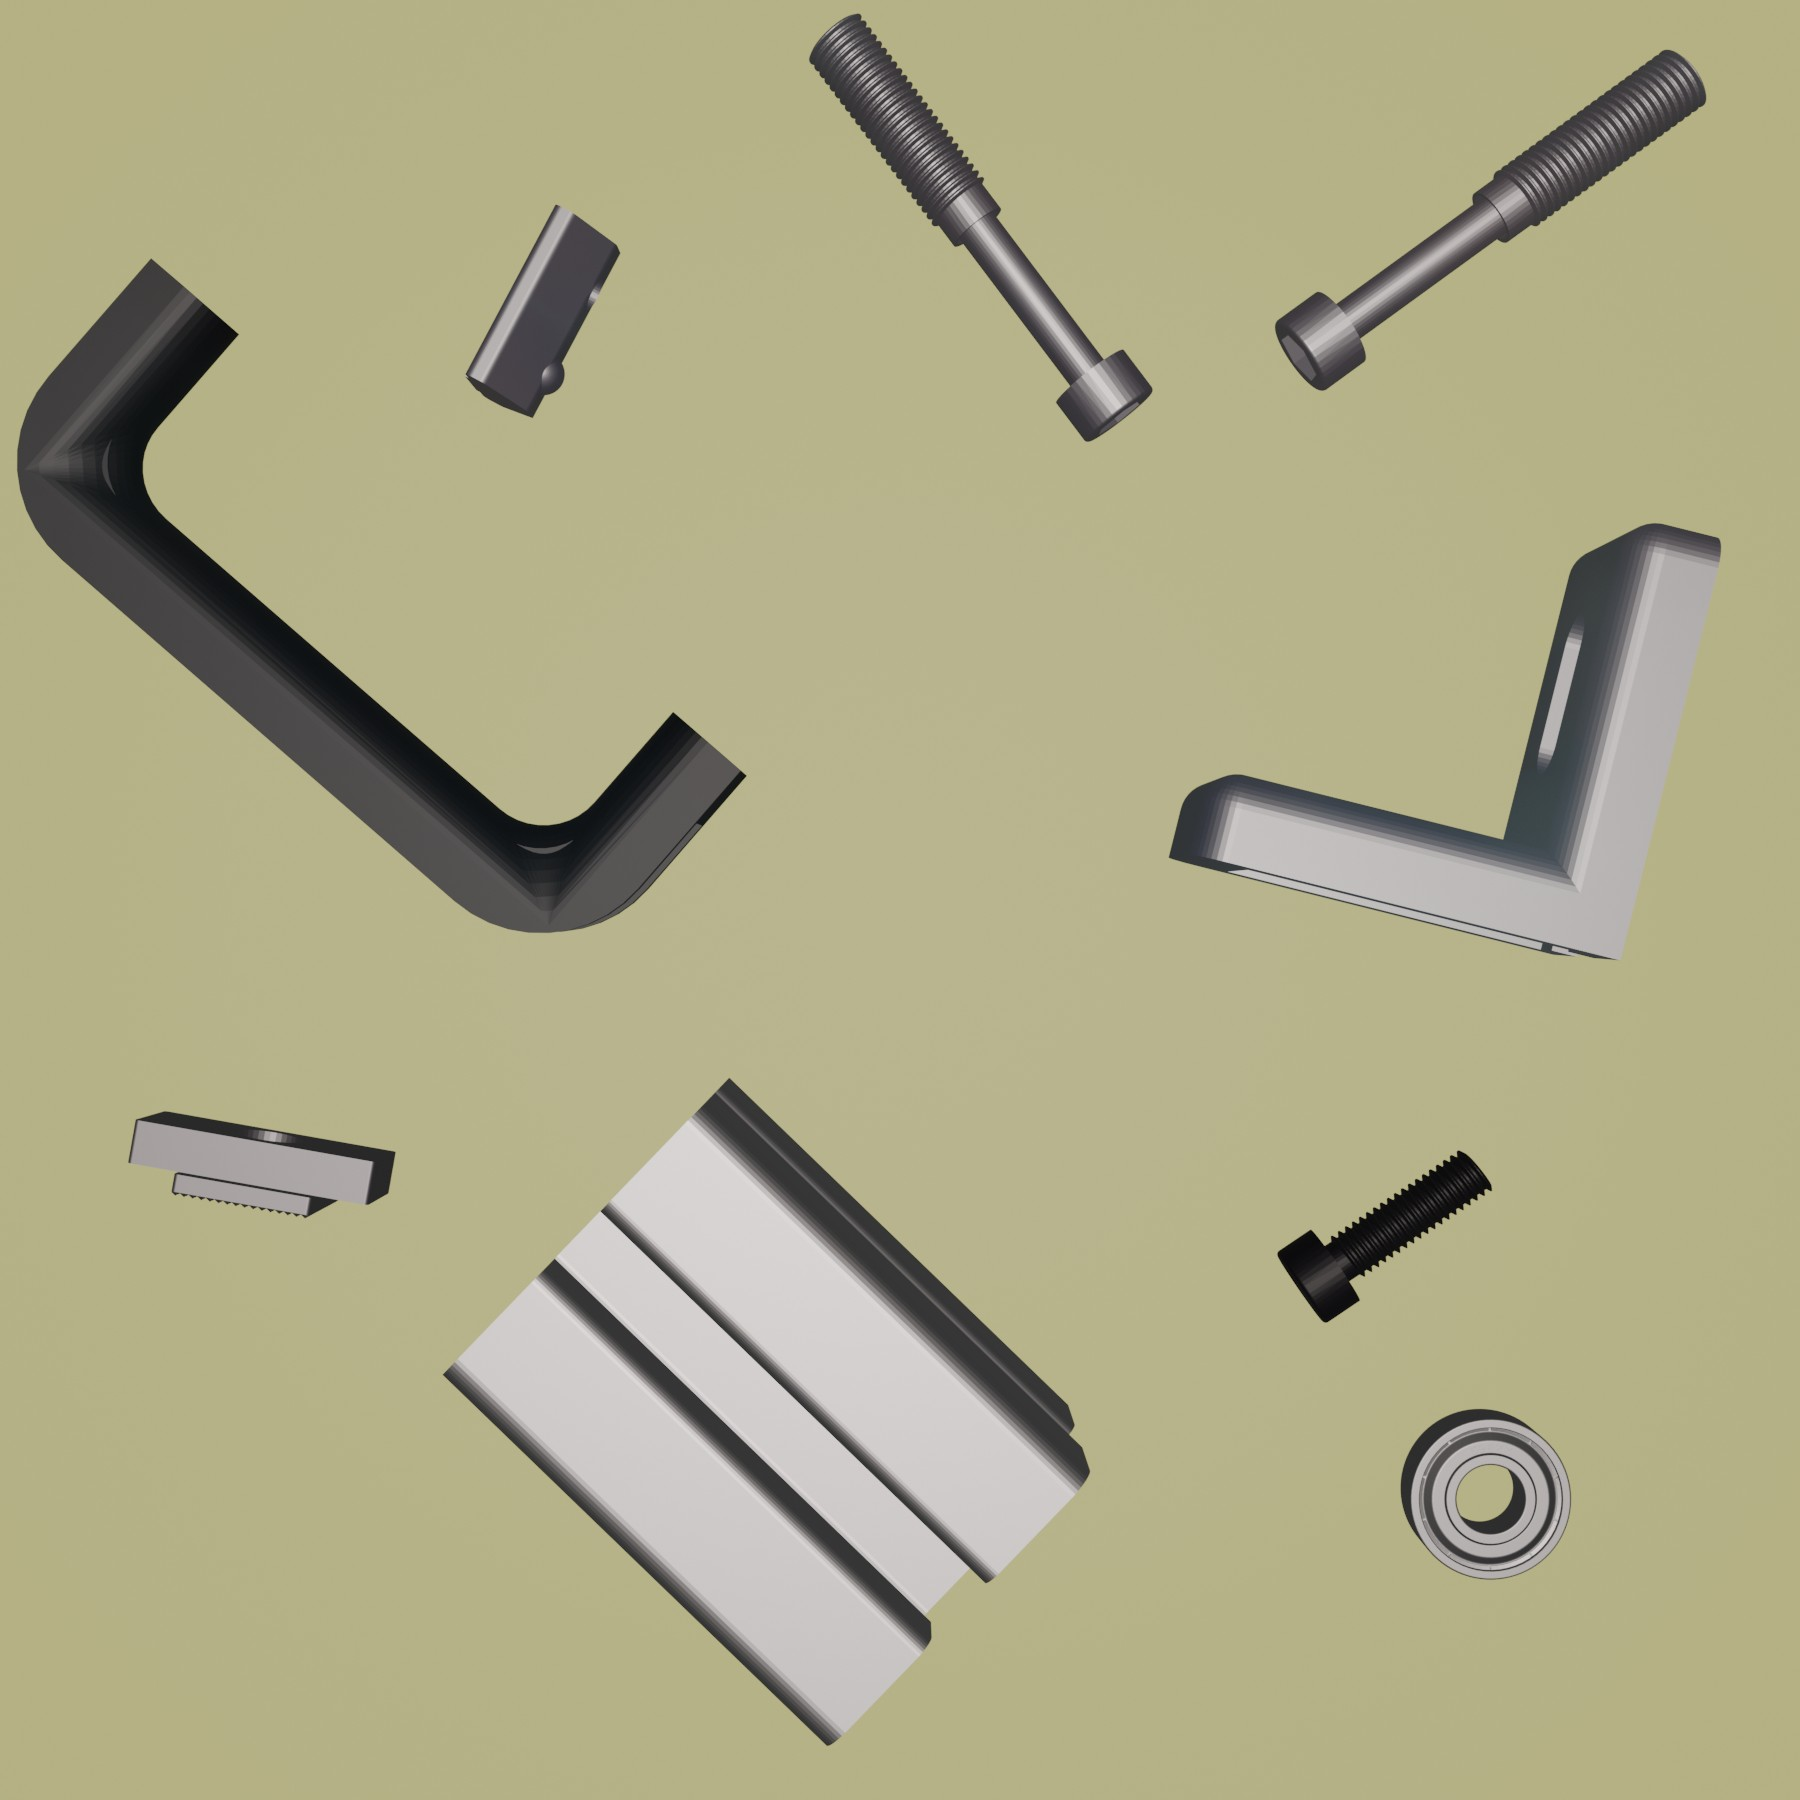Aluminium Extension: (442, 1076, 1090, 1746)
Ball Bearing: (1396, 1408, 1573, 1581)
Multiwinkel: (1167, 519, 1724, 964)
Pull Handle: (15, 254, 748, 935)
Shoulder Socket Head Cap Screw: (804, 8, 1154, 442), (1273, 48, 1708, 396)
Socket Head Cap Screw: (1274, 1146, 1493, 1324)
T Nut Square: (125, 1108, 397, 1220)
T Spring Nut: (462, 203, 621, 420)
